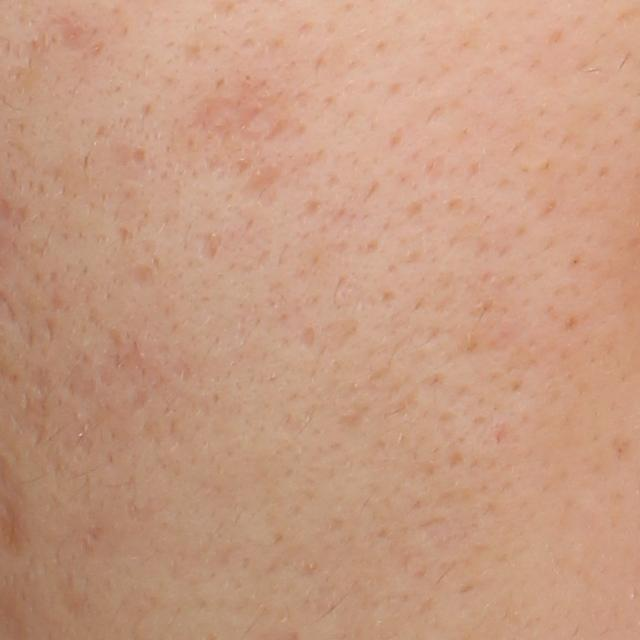atrophic_scar: (185, 78, 273, 149), (12, 367, 52, 446), (236, 157, 288, 205), (98, 344, 148, 388), (320, 314, 362, 356), (187, 229, 220, 263), (124, 264, 159, 287), (293, 325, 316, 351), (40, 318, 58, 345)
